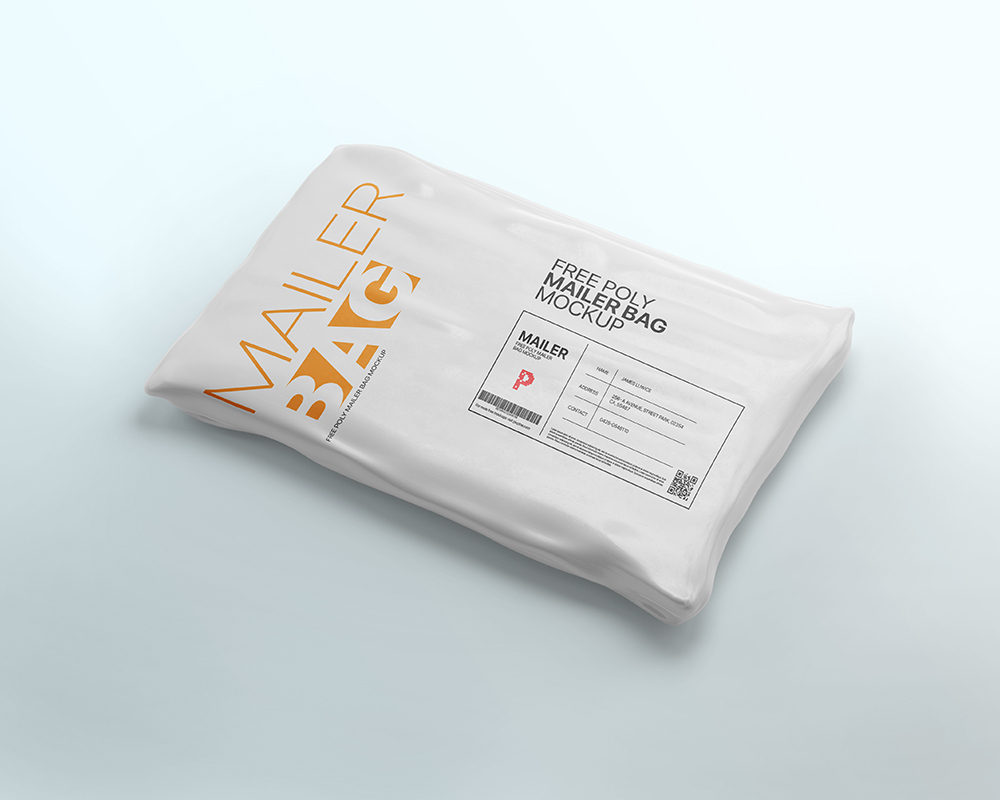塑料袋: (149, 146, 851, 622)
